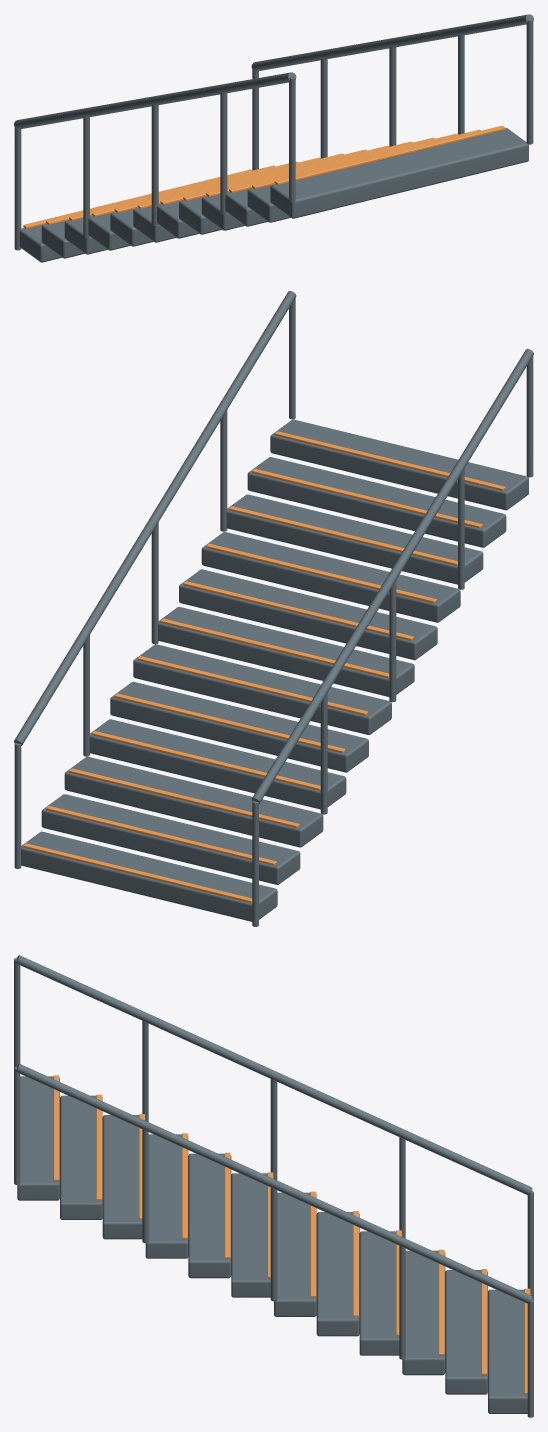
Rendered from stairs.fbx.
3 renders of one model, top to bottom at view 1: azimuth 30°, elevation 25°; view 2: azimuth 150°, elevation 25°; view 3: azimuth 270°, elevation 25°, orthographic. The views are drawn at different scales.
Parts seen in each view (by area): view 1: stairs; view 2: stairs; view 3: stairs.
Boxes of the visible parts, x1=… form: stairs: x1=14, y1=14, x2=533, y2=262; stairs: x1=14, y1=291, x2=533, y2=926; stairs: x1=14, y1=955, x2=533, y2=1417.
Size of the model in its own units: 207 by 405 by 303.
